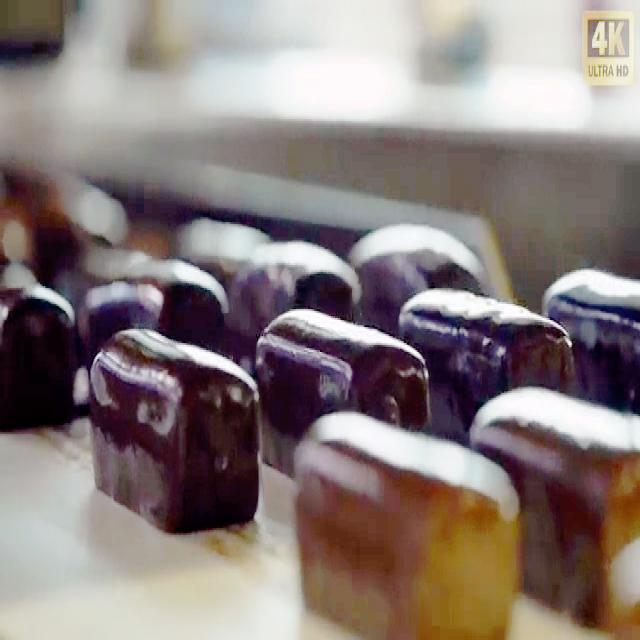Choco: (291, 405, 521, 635), (479, 367, 639, 613), (86, 322, 262, 533), (254, 302, 430, 430), (397, 283, 575, 400), (86, 249, 242, 366), (546, 244, 640, 404), (364, 219, 496, 325), (6, 280, 81, 448), (236, 230, 360, 328)
